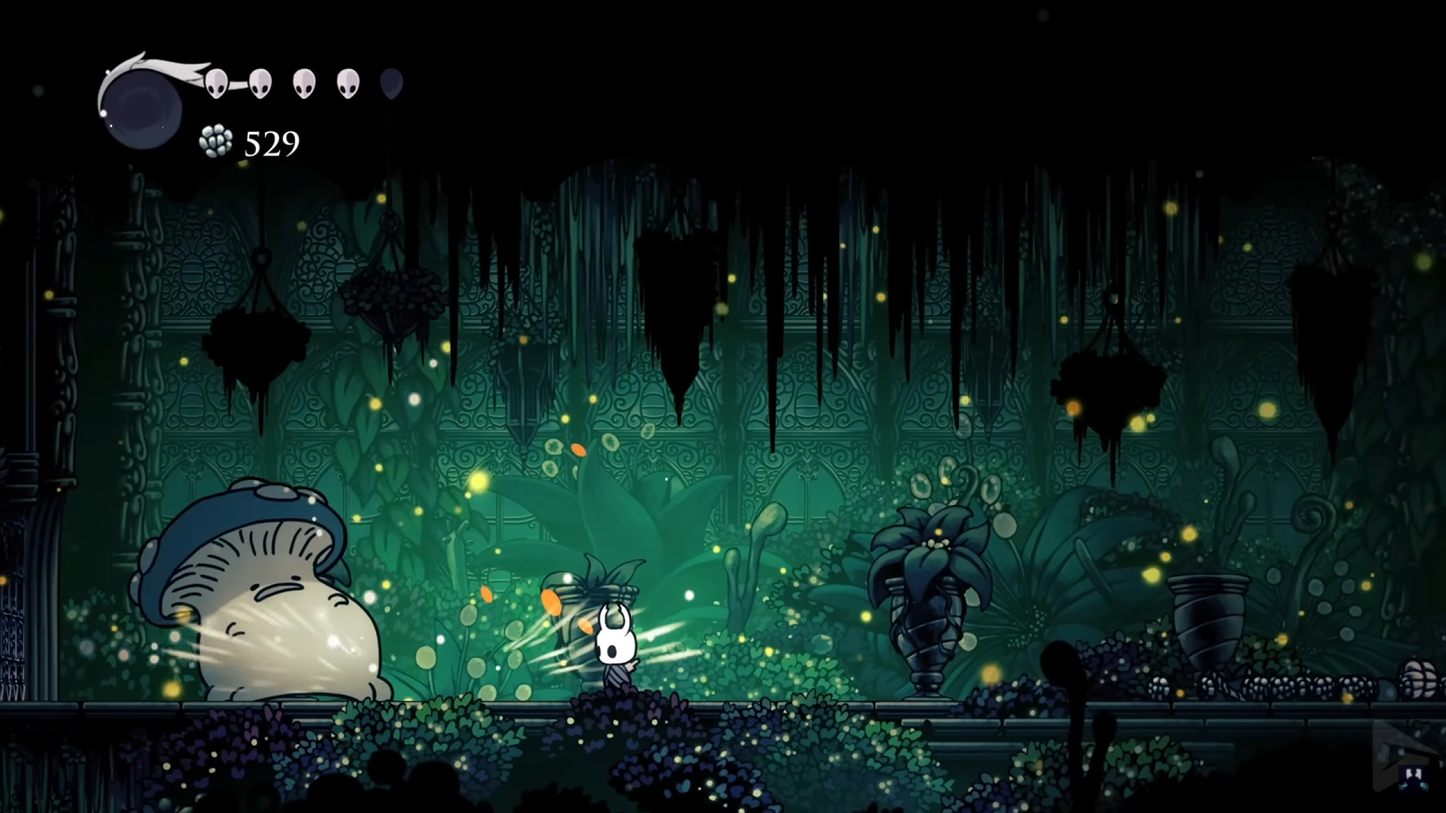HK: (587, 601, 642, 699)
